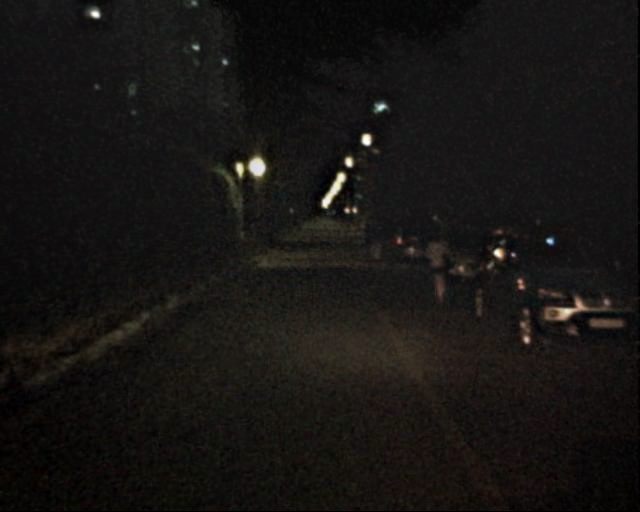person: (417, 227, 450, 308), (365, 217, 384, 263), (356, 221, 370, 256)
